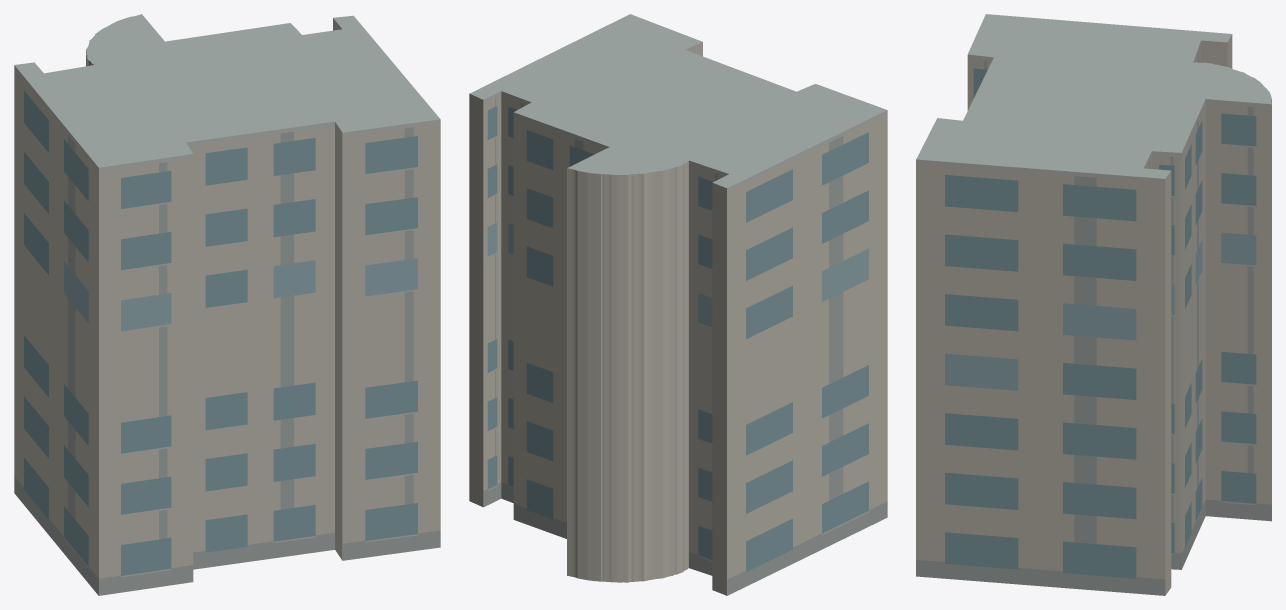
File: survey-upis-32700985.glb
3 renders of one model, left to right at view 1: azimuth 30°, elevation 25°; view 2: azimuth 150°, elevation 25°; view 3: azimuth 270°, elevation 25°, orthographic. The views are drawn at different scales.
Visible parts, largest first — view 1: survey-upis-32700985.tmp; view 2: survey-upis-32700985.tmp; view 3: survey-upis-32700985.tmp.
Boxes of the visible parts, box(x1,y1,x2,y2) form: survey-upis-32700985.tmp: box(14, 14, 440, 595); survey-upis-32700985.tmp: box(469, 14, 887, 595); survey-upis-32700985.tmp: box(916, 14, 1271, 595).
Size of the model in its own units: 20.37 by 24 by 18.57.
